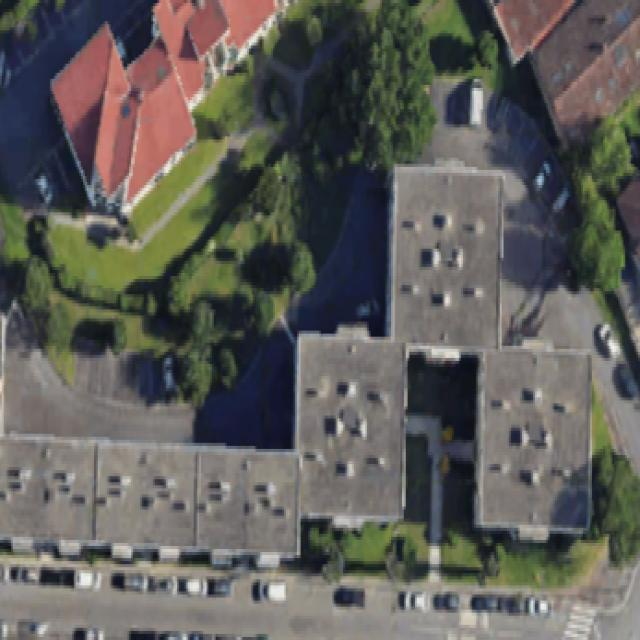immeuble: (0, 438, 303, 556), (386, 169, 503, 348), (298, 333, 406, 520), (480, 349, 591, 529)
